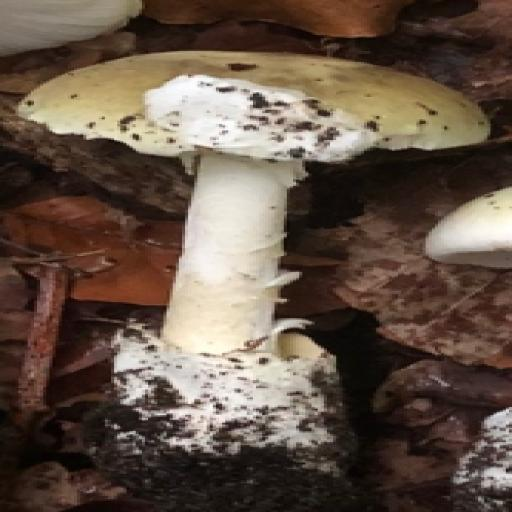Death Cap: (32, 0, 512, 500)
